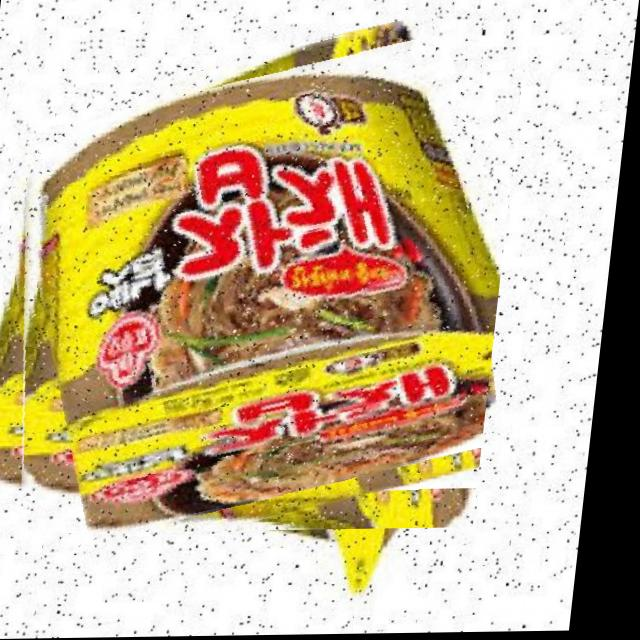Miscellaneous: (0, 31, 528, 534)
